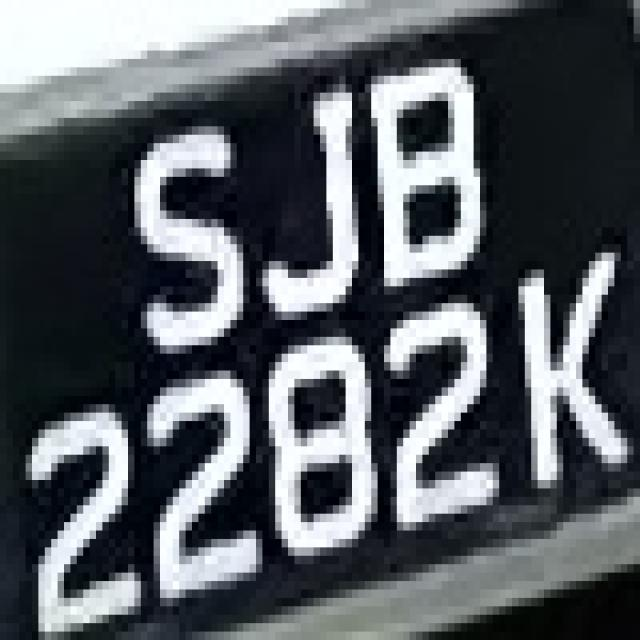2: (0, 396, 166, 640), (358, 295, 506, 564), (128, 362, 288, 606)
8: (276, 328, 390, 590)
B: (352, 59, 512, 312)
J: (224, 67, 371, 346)
K: (499, 236, 634, 514)
S: (122, 84, 256, 371)
